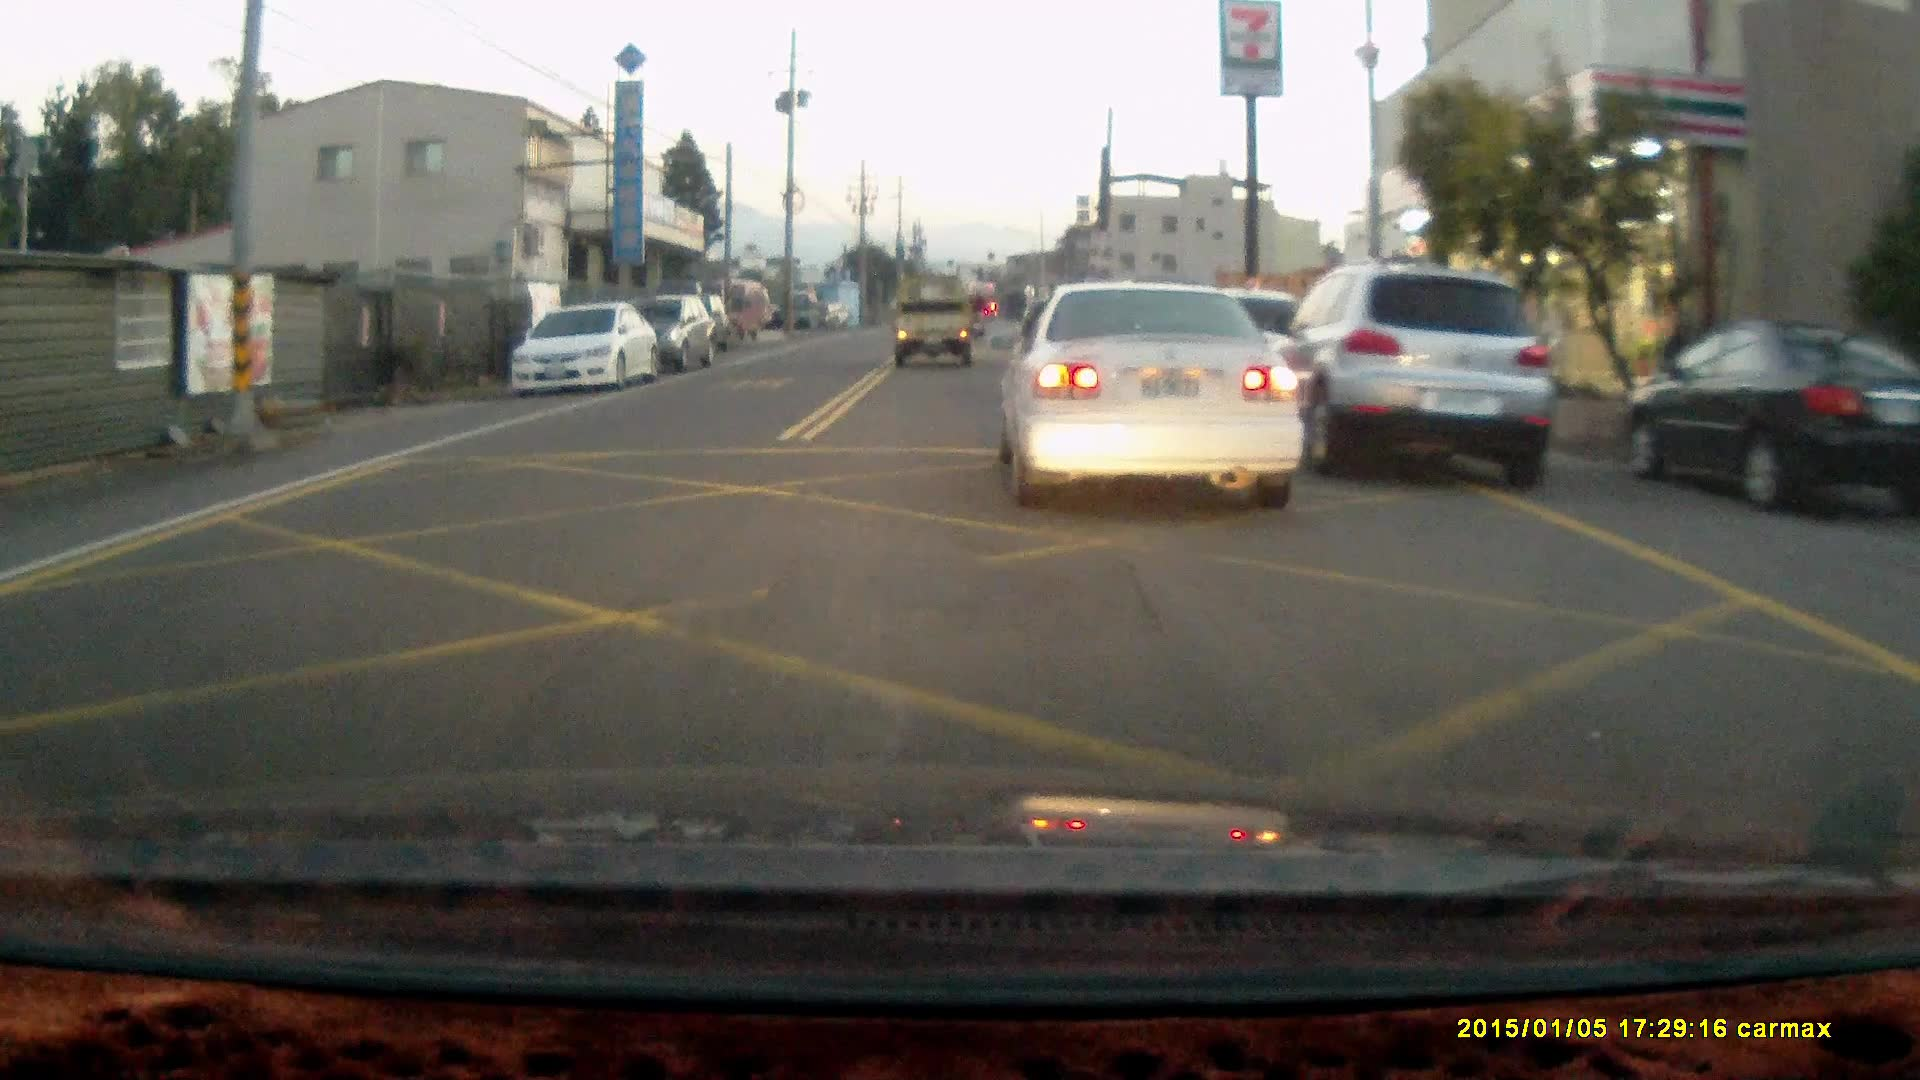rider: (963, 287, 989, 338)
vehicle: (1258, 263, 1561, 489), (994, 276, 1303, 499), (1620, 323, 1919, 511), (503, 296, 665, 398), (890, 279, 977, 367), (627, 295, 711, 374)
